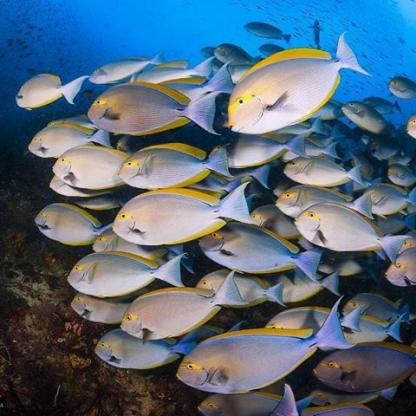surgeon: (175, 292, 350, 397), (227, 28, 364, 134), (111, 182, 253, 246), (197, 212, 321, 285), (117, 271, 240, 344), (85, 83, 228, 140), (295, 201, 398, 267), (65, 247, 188, 297), (92, 319, 200, 374), (312, 340, 415, 396), (33, 201, 123, 254), (53, 143, 142, 193), (207, 135, 312, 169), (11, 68, 85, 110), (198, 388, 310, 415), (283, 154, 367, 188), (84, 56, 169, 81), (344, 99, 396, 138), (383, 249, 416, 291), (389, 71, 416, 102), (389, 163, 416, 188)
